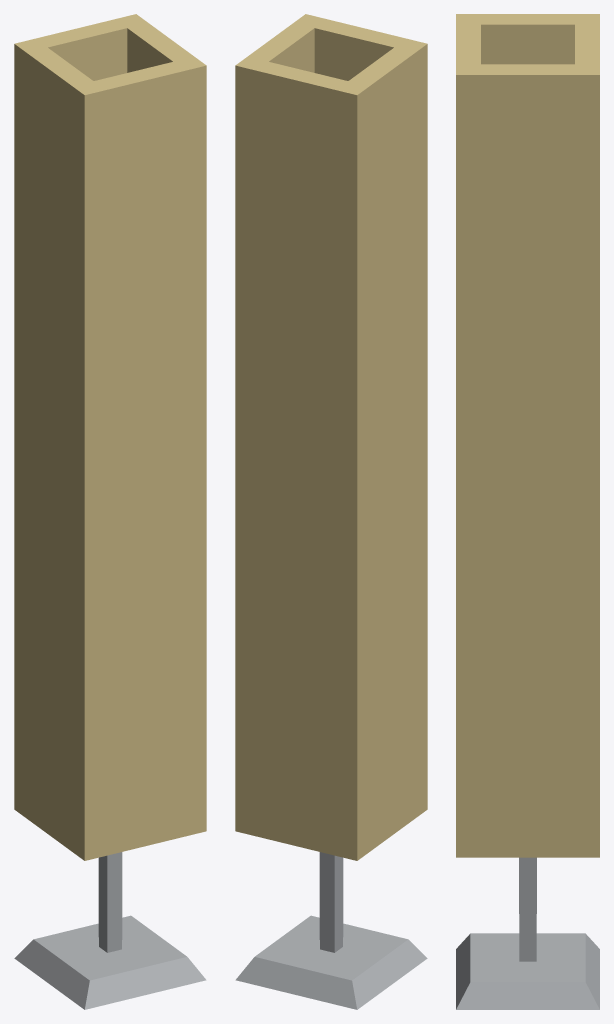
File: floor_lamp_square.glb
The picture shows the model from 3 angles, left to right: view 1: azimuth 30°, elevation 25°; view 2: azimuth 150°, elevation 25°; view 3: azimuth 270°, elevation 25°; orthographic projection. The views are drawn at different scales.
Parts seen in each view (by area): view 1: floor_lamp_square; view 2: floor_lamp_square; view 3: floor_lamp_square.
Part boxes in pixels (x1=…): floor_lamp_square: x1=14, y1=14, x2=206, y2=1009; floor_lamp_square: x1=235, y1=14, x2=427, y2=1009; floor_lamp_square: x1=456, y1=14, x2=599, y2=1009.
Size of the model in its own units: 0.2233 by 1.6 by 0.2233.
